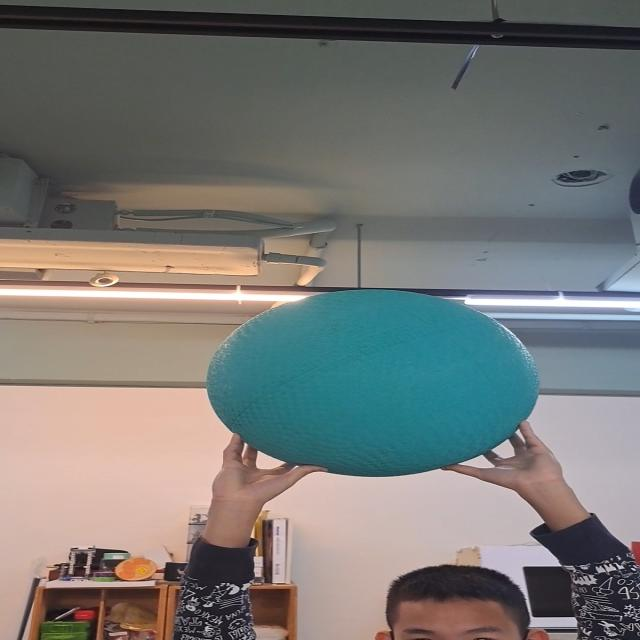ALGAE: (206, 289, 542, 476)
